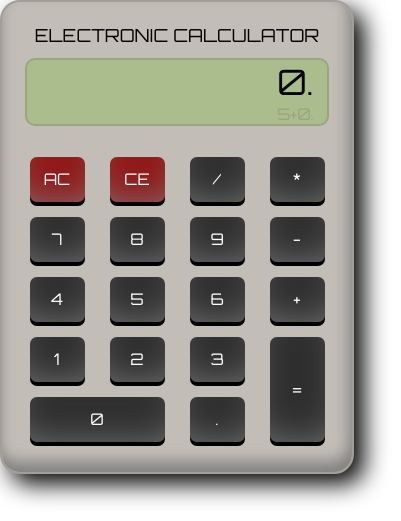
method pressNumbers › renders 0.8 at inputvalue and ...0.8 at expression if 0.
Check: the text with class "Calc__input-value" reads "0.", box [277,60,314,104]
Check: the text with class "Calc__expression" reads "5+0.", box [277,104,314,124]
Click the text with class "Calc__button_SR" showing "8".
click(137, 239)  # box [110,216,164,262]
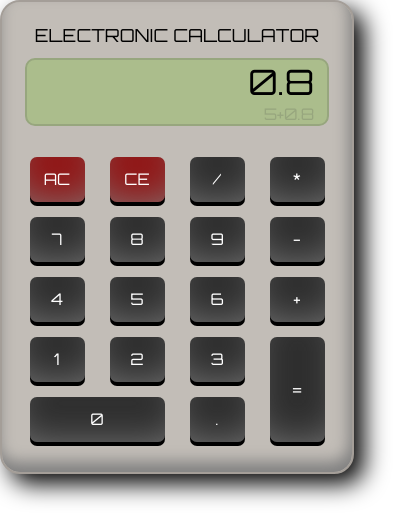
Check: the text with class "Calc__expression" reads "5+0.8", box [264,104,314,124]
Check: the text with class "Calc__input-value" reads "0.8", box [248,60,314,104]
